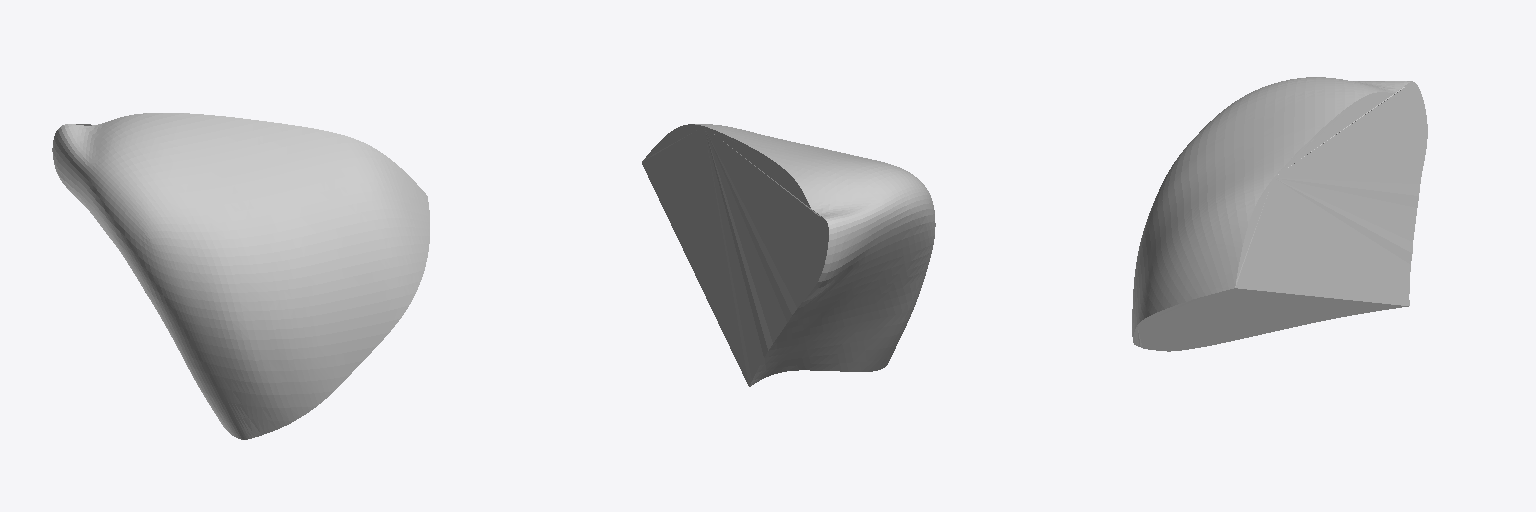
Rendered from liver4.obj.
3 renders of one model, left to right at view 1: azimuth 30°, elevation 25°; view 2: azimuth 150°, elevation 25°; view 3: azimuth 270°, elevation 25°, orthographic.
Visible parts, largest first — view 1: liver.004; view 2: liver.004; view 3: liver.004.
Boxes of the visible parts, x1=… form: liver.004: x1=52, y1=113, x2=429, y2=439; liver.004: x1=642, y1=124, x2=935, y2=386; liver.004: x1=1132, y1=77, x2=1427, y2=351.
Size of the model in its own units: 0.0668 by 0.0551 by 0.0573.